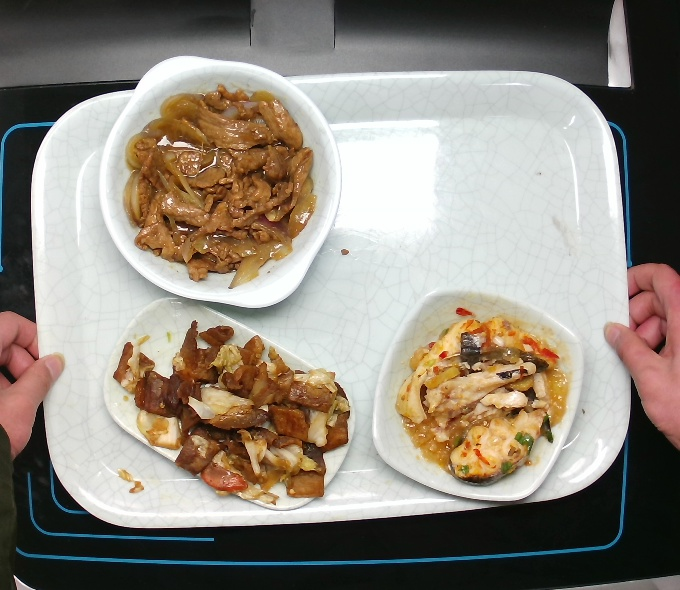wcq-DuoJiaoYuKuai: (391, 303, 578, 493)
wcq-PaoCaiRouPian: (110, 298, 360, 517)
wcq-YangCongRouPian: (122, 82, 327, 292)
